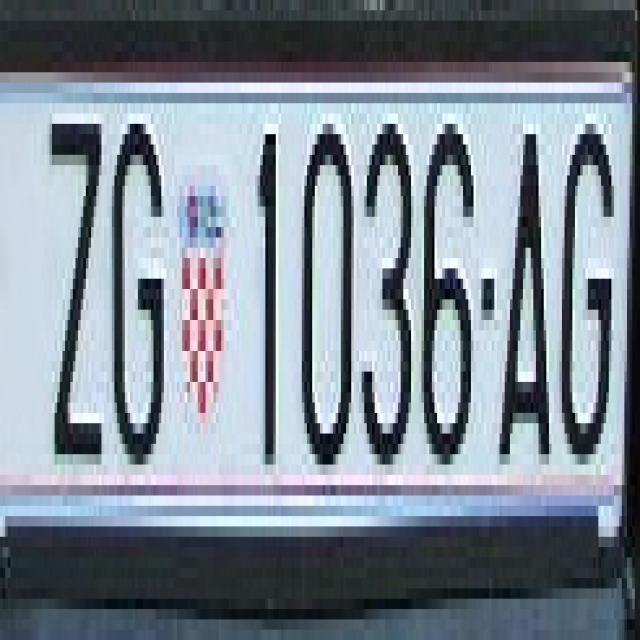0: (294, 113, 351, 464)
1: (255, 103, 281, 474)
3: (359, 113, 414, 464)
6: (422, 113, 476, 454)
A: (496, 113, 552, 464)
G: (109, 113, 169, 464), (559, 113, 614, 454)
Z: (44, 82, 104, 444)
